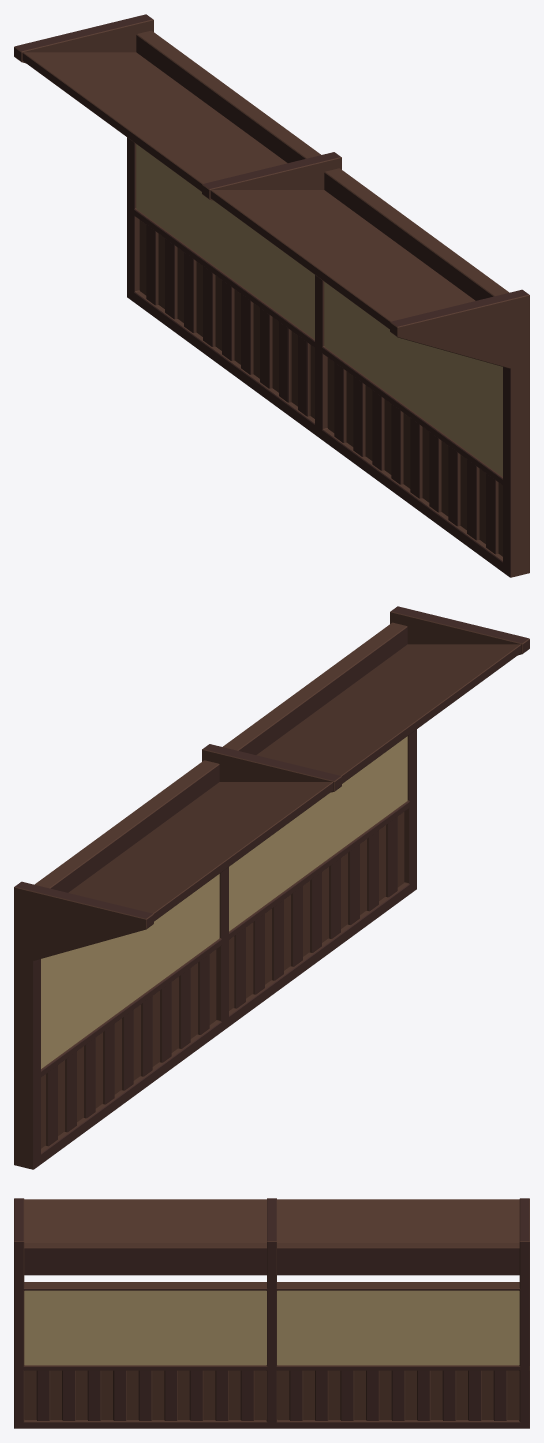
The model's file is 3D_exterior_station_stop_1.fbx.
3 views of the same model, one above another, from view 1: azimuth 30°, elevation 25°; view 2: azimuth 150°, elevation 25°; view 3: azimuth 270°, elevation 25° (orthographic). The views are drawn at different scales.
Visible parts, largest first — view 1: Exterior Train Stop Bevel; view 2: Exterior Train Stop Bevel; view 3: Exterior Train Stop Bevel.
Boxes of the visible parts, x1=… form: Exterior Train Stop Bevel: x1=14, y1=14, x2=529, y2=577; Exterior Train Stop Bevel: x1=14, y1=606, x2=529, y2=1169; Exterior Train Stop Bevel: x1=14, y1=1198, x2=529, y2=1428.
Bounding box in the file's own units: 2 × 4 × 10.
